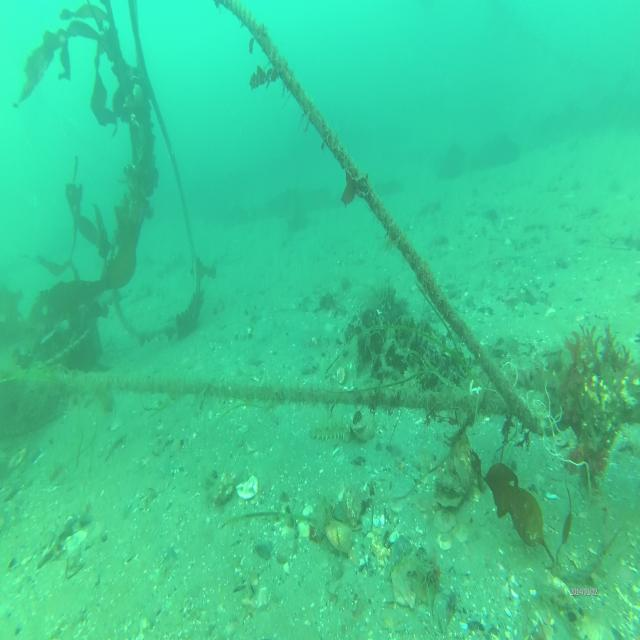holothurian: (309, 416, 352, 444)
scallop: (325, 515, 357, 559), (431, 500, 458, 533)
